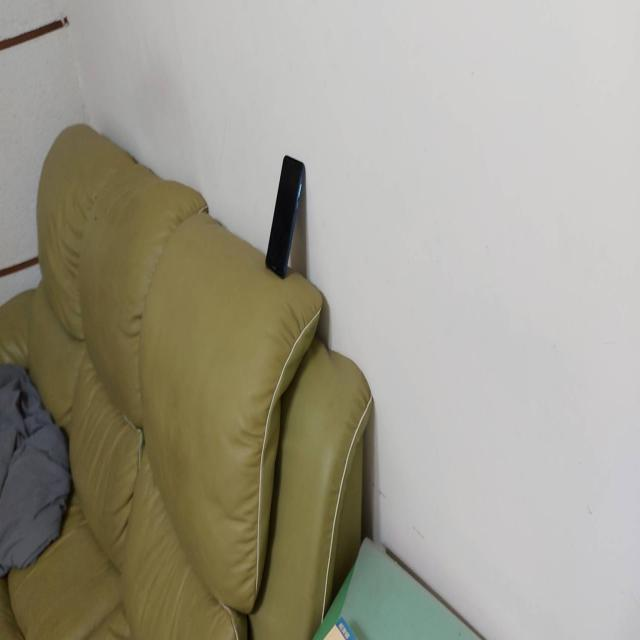phone: (266, 155, 305, 277)
